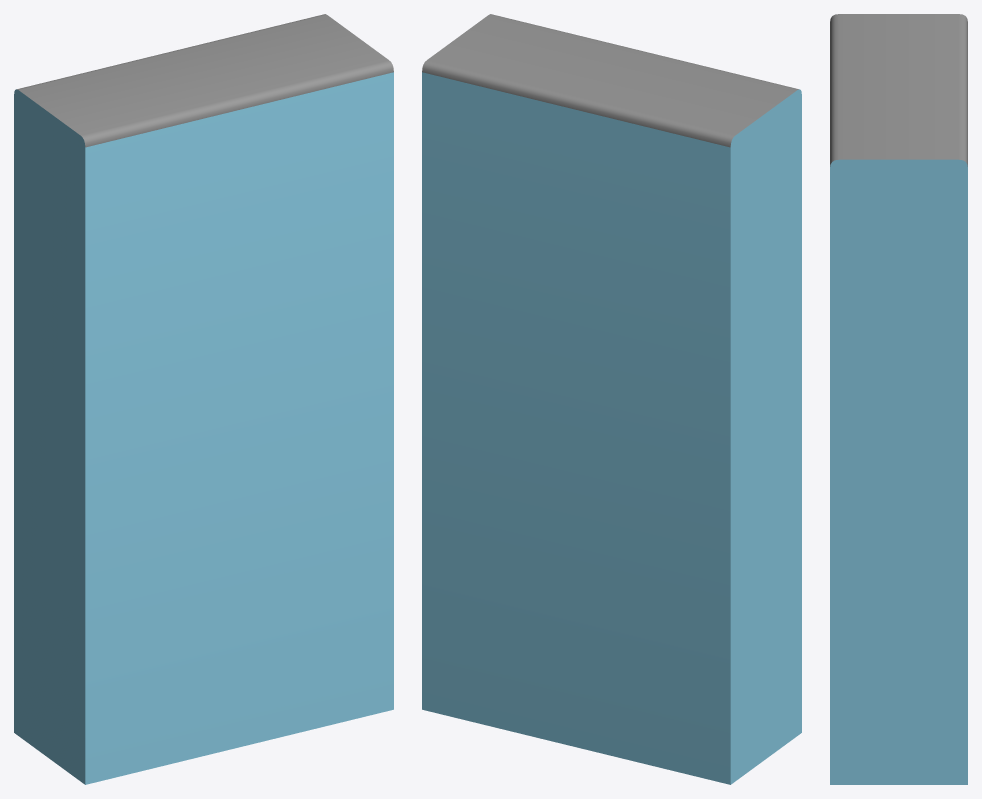
Rendered from Plateforme_lvl.FBX.
3 renders of one model, left to right at view 1: azimuth 30°, elevation 25°; view 2: azimuth 150°, elevation 25°; view 3: azimuth 270°, elevation 25°, orthographic. The views are drawn at different scales.
Visible parts, largest first — view 1: Box003; view 2: Box003; view 3: Box003.
Boxes of the visible parts, left/top/right/bottom form: Box003: left=14, top=14, right=393, bottom=784; Box003: left=422, top=14, right=801, bottom=784; Box003: left=830, top=14, right=967, bottom=784.
Size of the model in its own units: 50 by 100 by 20.
